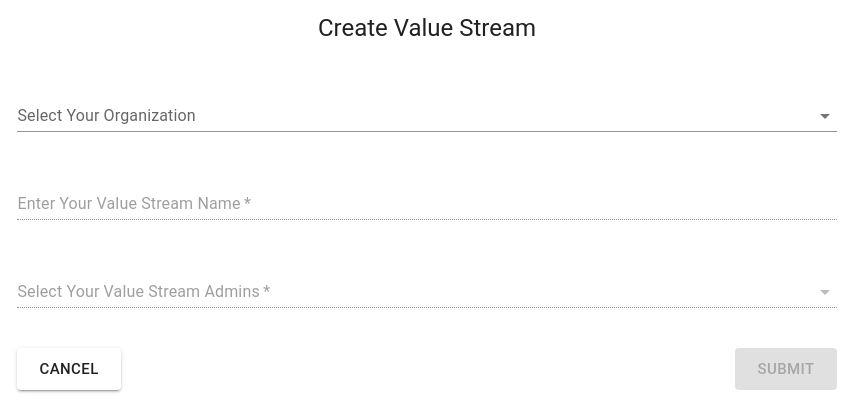
Scenario: Form validation › value stream admins field › should be disabled if sso is not enabled
The image size is (855, 410).
Type "Platform One" into the dropdown labelled "Select Your Organization".
click(412, 116); type("Platform One")  # box [17,100,807,131]
Then press Arrowdown, Enter
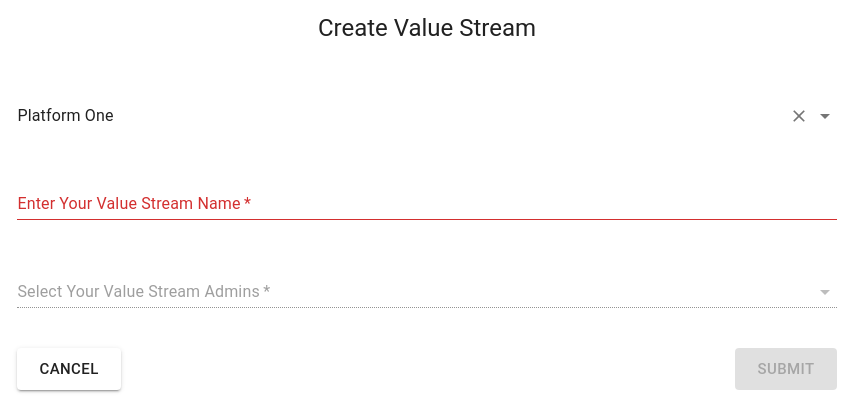
Type "foo bar" into the field labelled "Enter Your Value Stream Name".
click(427, 204); type("foo bar")  # box [17,188,837,220]
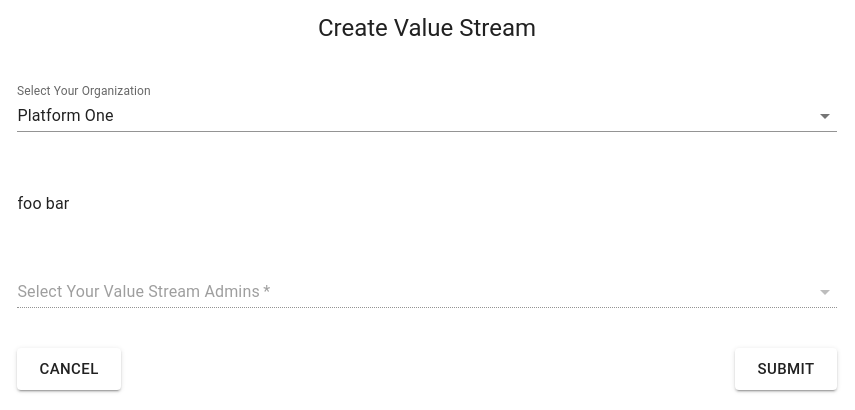
Expected: the dropdown labelled "Select Your Value Stream Admins" is disabled, [17,276,807,307]
Expected: the button with aria-label "Submit Your Form" is enabled, [735,348,837,390]
